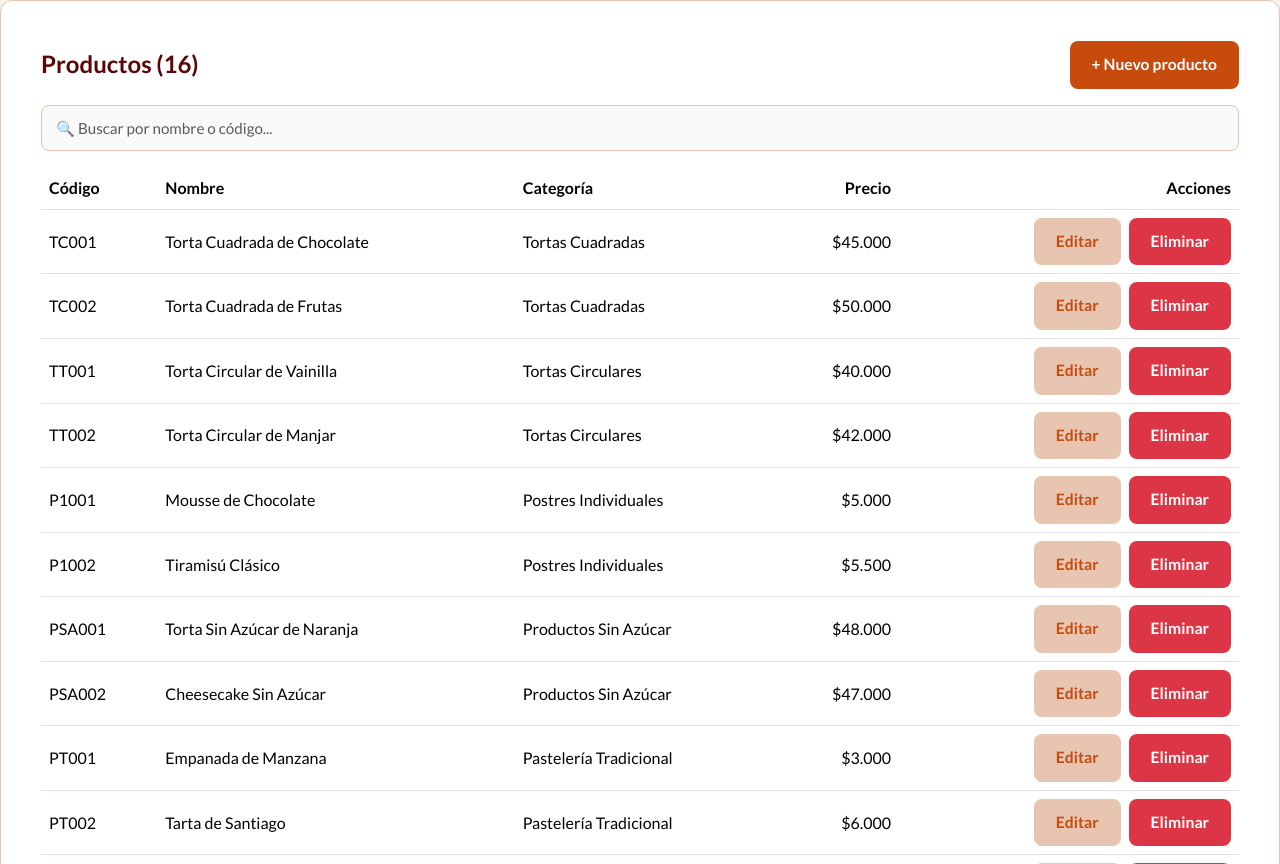
Test: Panel de Administración - Productos › Debe crear un producto nuevo desde el formulario
Click the button "+ Nuevo producto".
click(1154, 65)  # box [1070,41,1239,88]
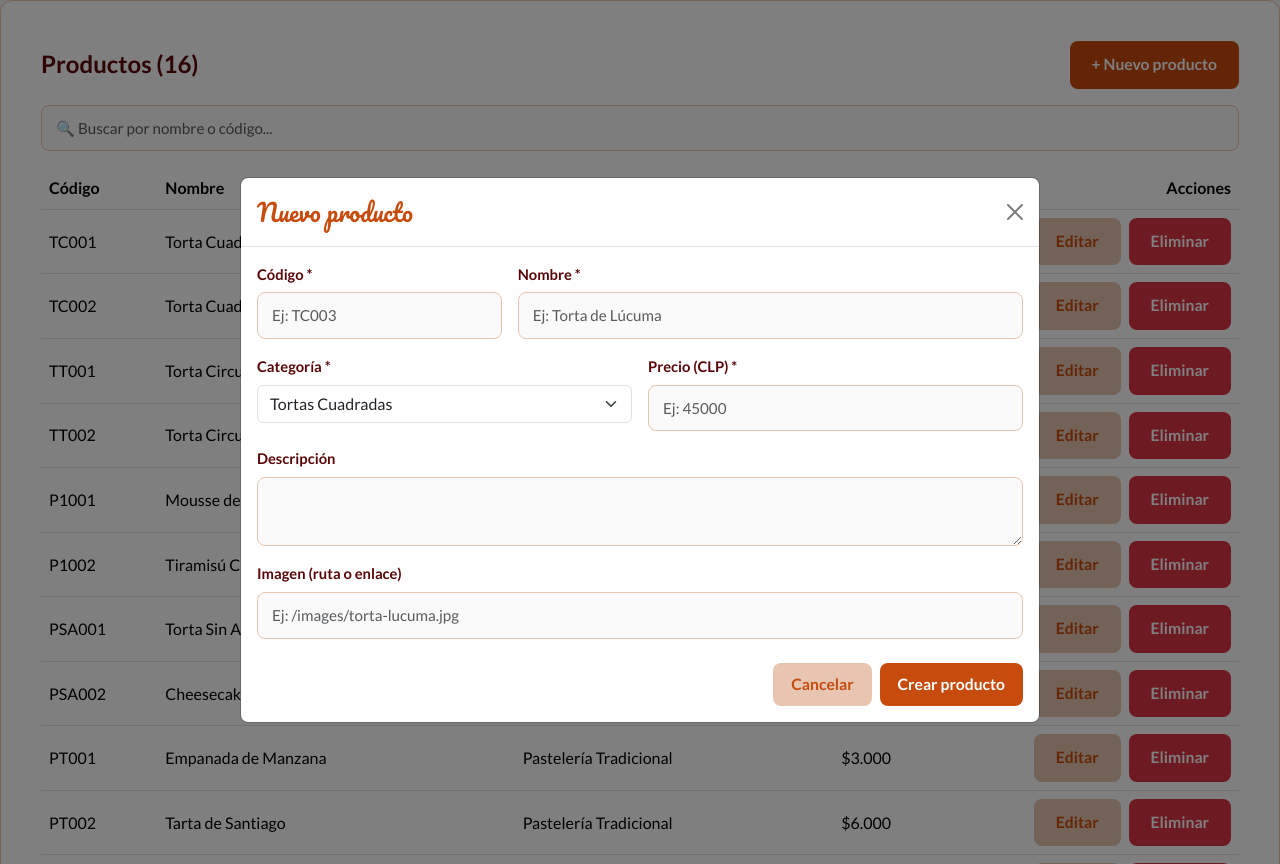
Type "TC003" into the field labelled "Código *".
click(379, 316); type("TC003")  # box [257,292,502,339]
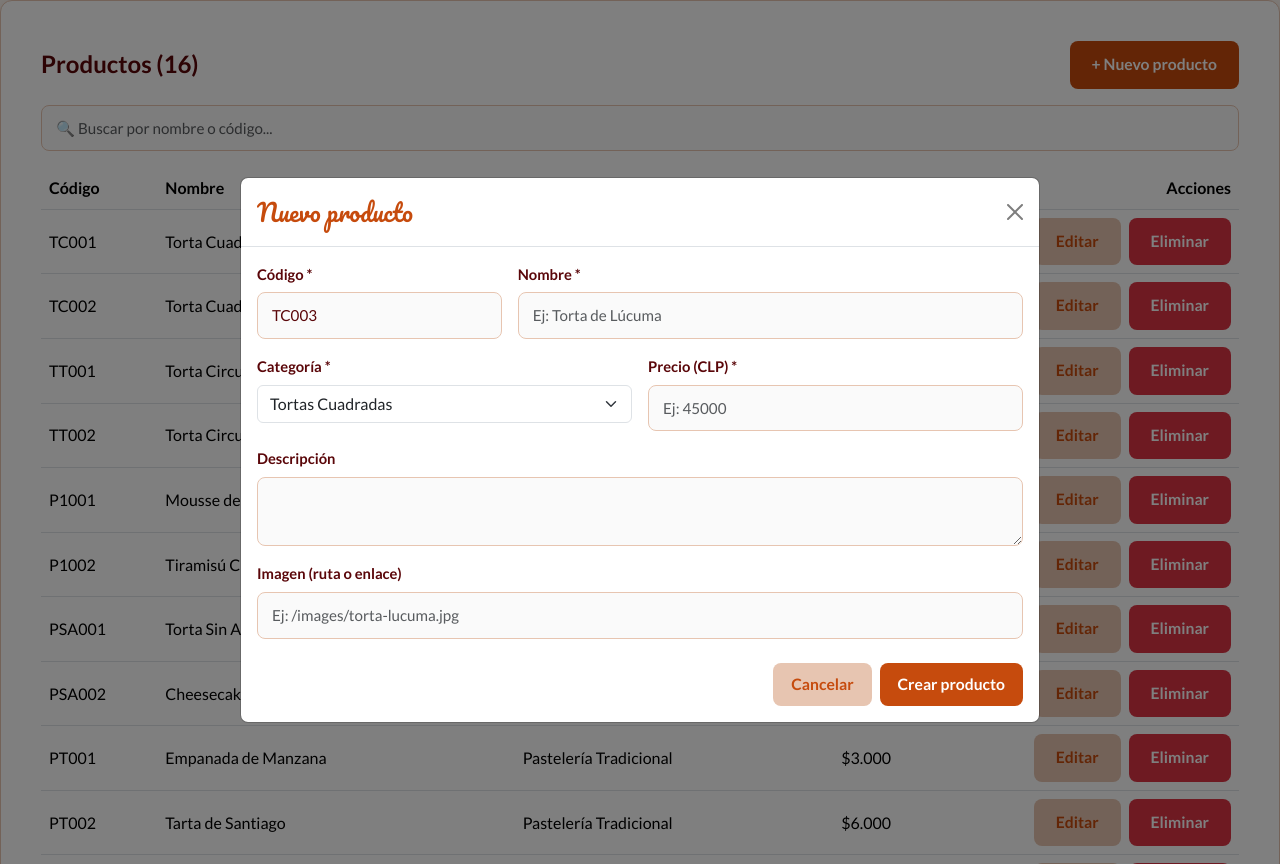
Type "Torta de Lúcuma" into the field labelled "Nombre *".
click(770, 316); type("Torta de Lúcuma")  # box [518,292,1023,339]
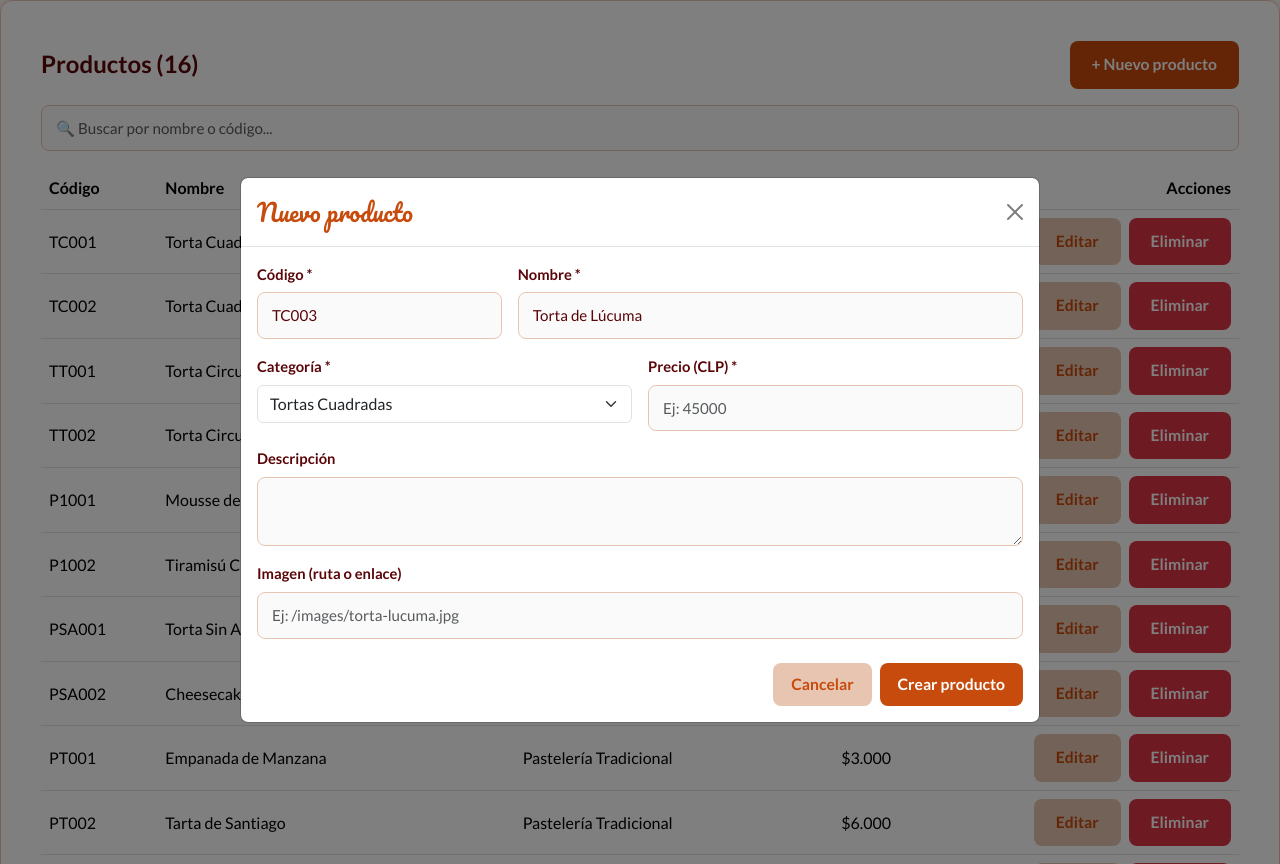
Type "47000" into the number field labelled "Precio (CLP) *".
click(836, 408); type("47000")  # box [648,385,1023,431]
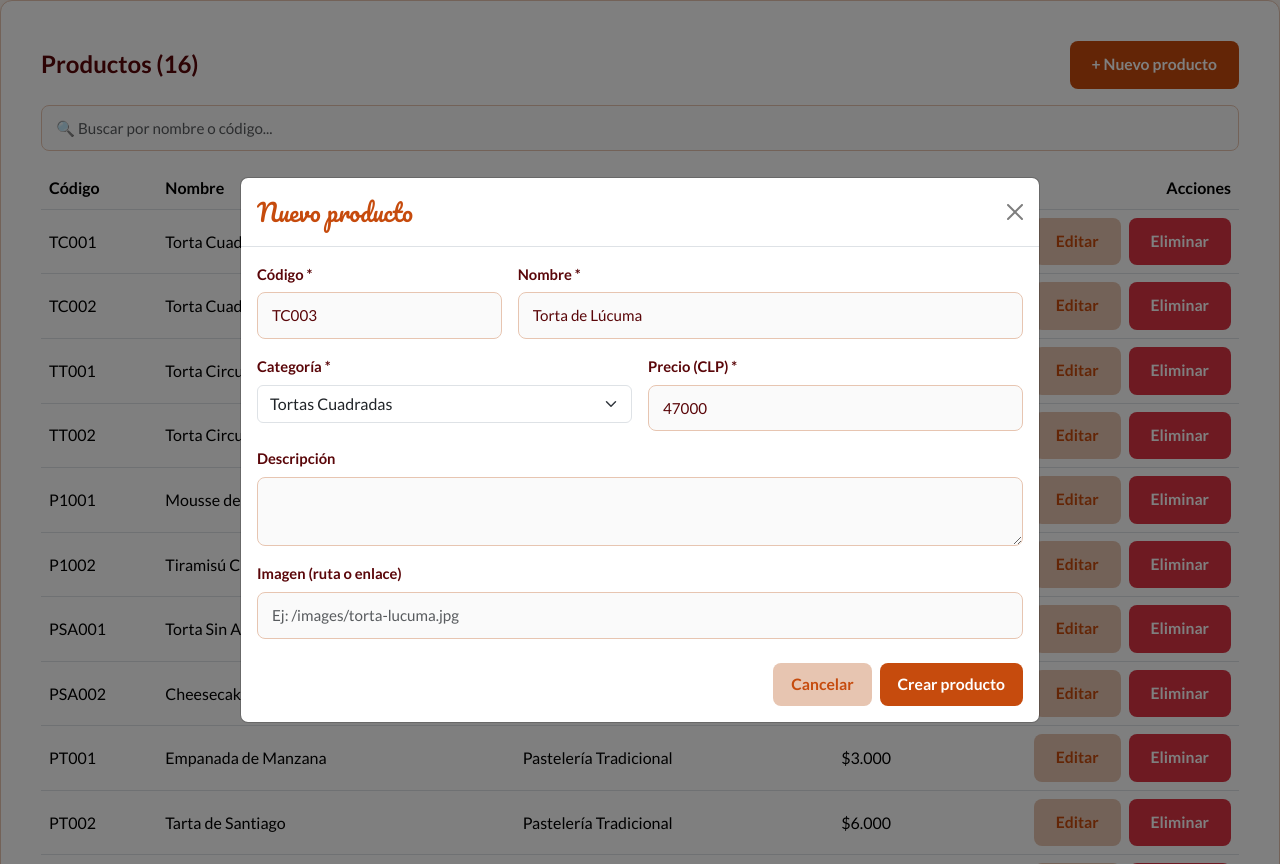
Click the button "Crear producto".
click(951, 685)  # box [880,663,1023,706]
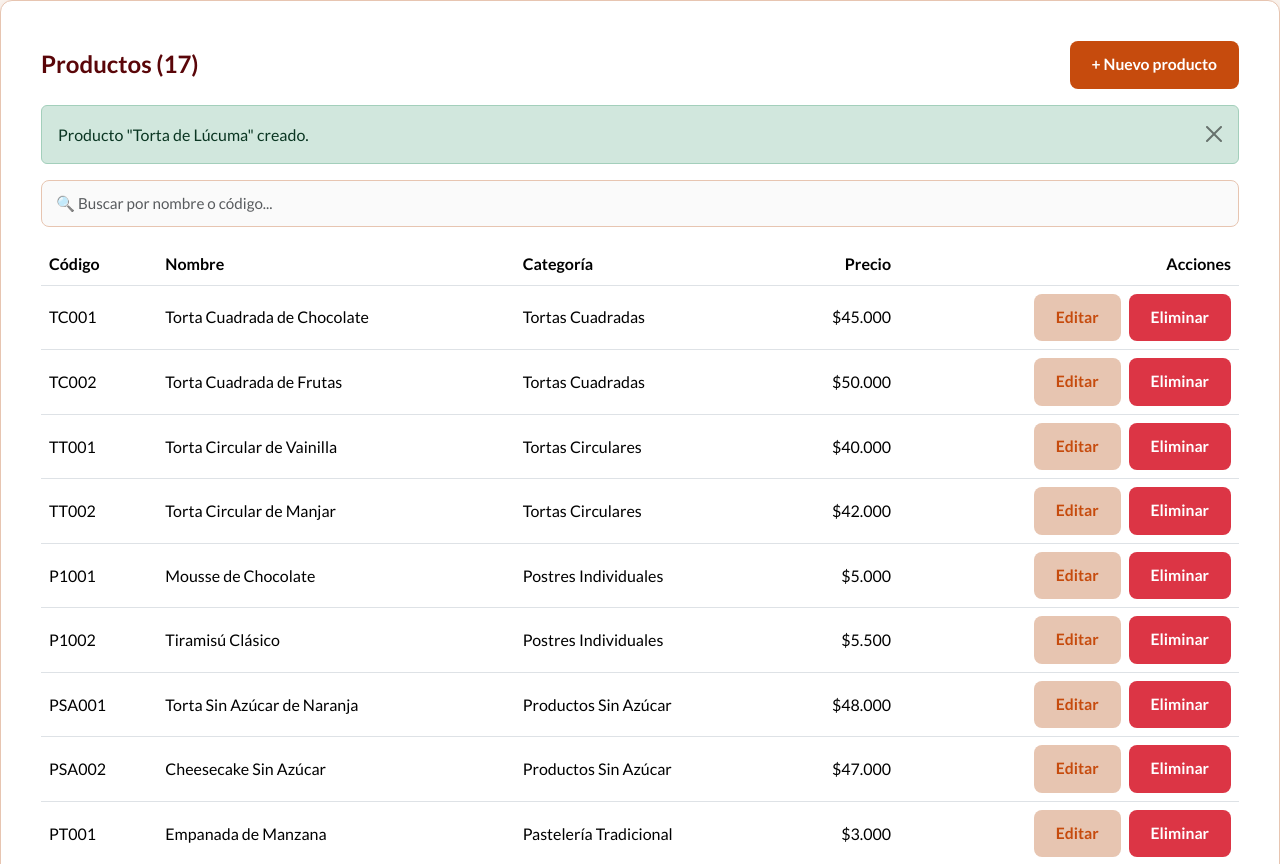
Expected: the heading "Productos (17)" is shown, [41,50,198,79]
